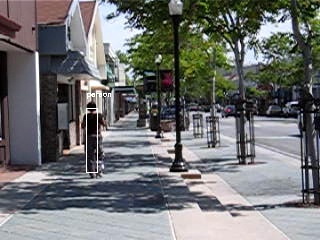person: (82, 102, 107, 180), (81, 102, 106, 180), (83, 102, 108, 180), (82, 101, 107, 179), (82, 103, 107, 181)
target_negative: (43, 207, 256, 227), (194, 166, 248, 223), (54, 227, 279, 229), (299, 43, 304, 99), (8, 44, 9, 202)
